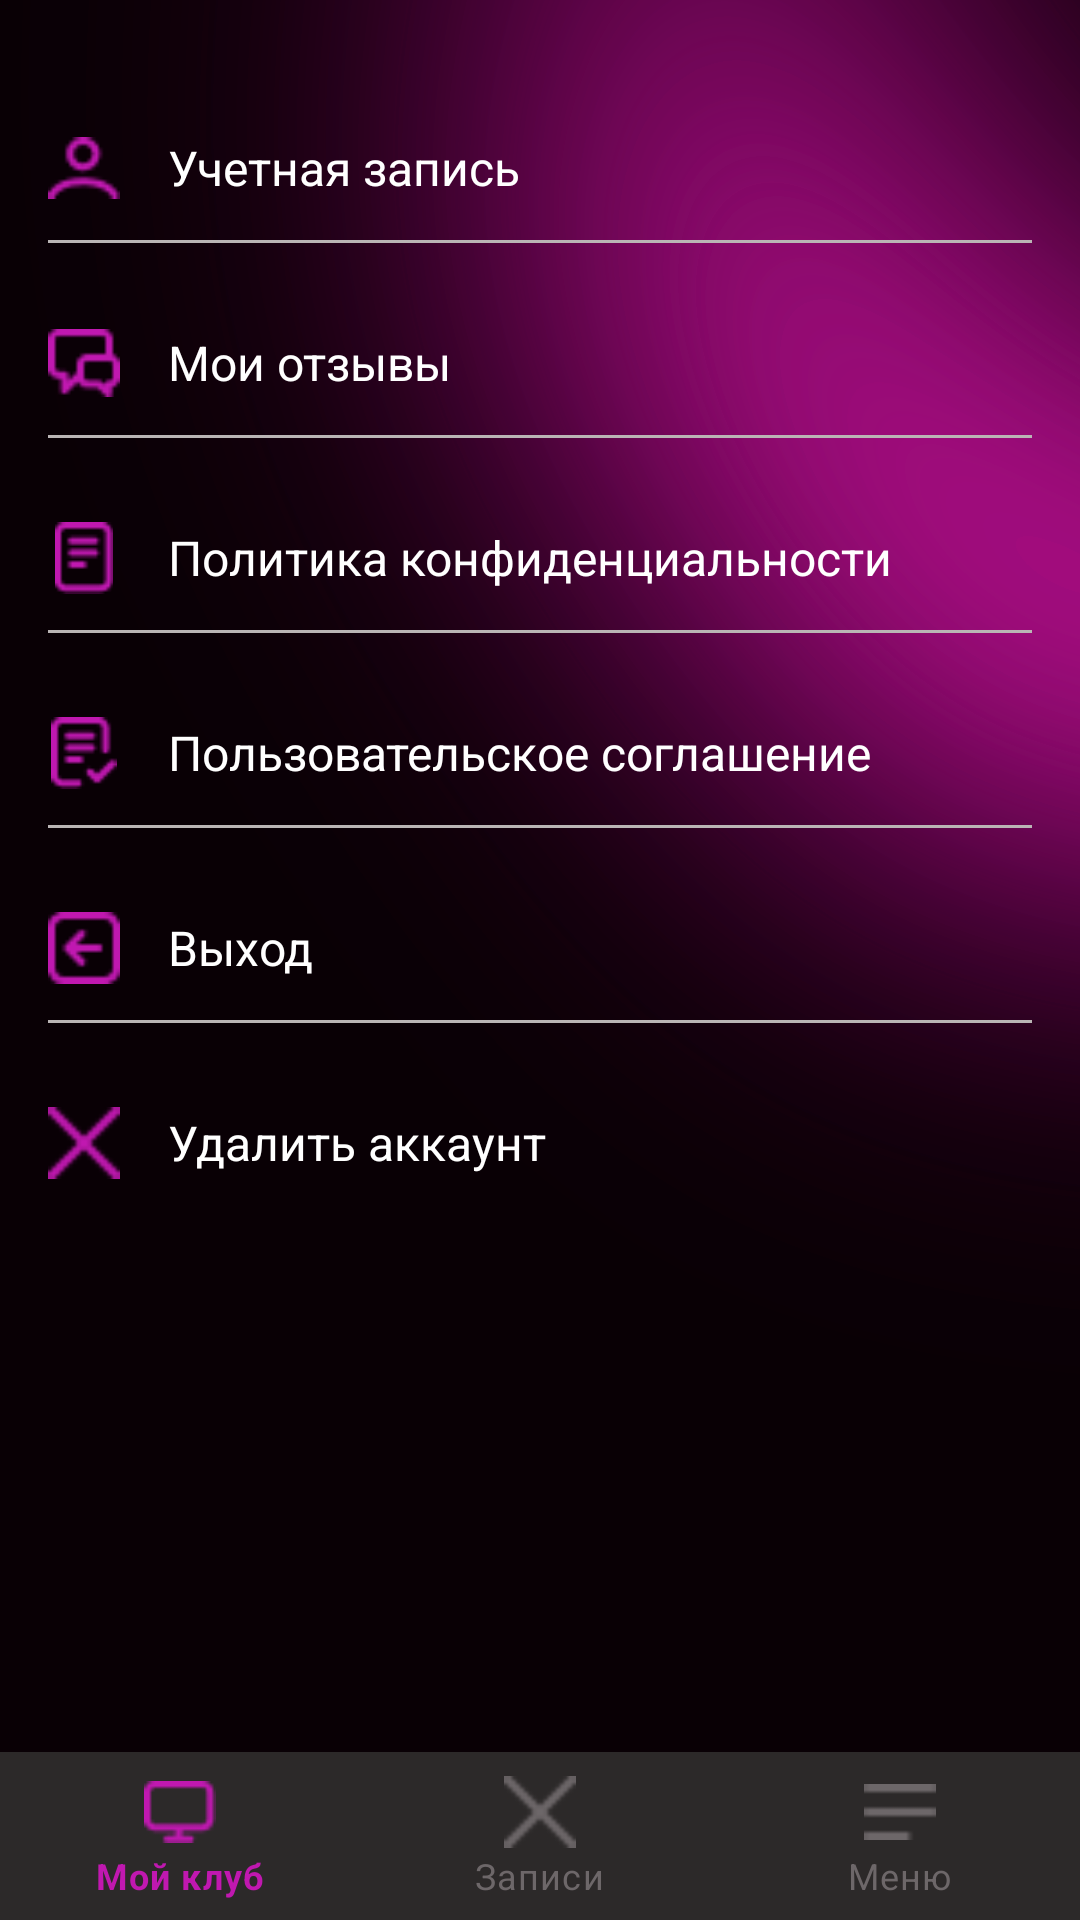

Icons on this 1080×1920 Android screen, each with the point to tap as (x,y):
account: (84,168)
delete: (84,1143)
privacy: (84,558)
reviews: (84,363)
terms: (84,753)
